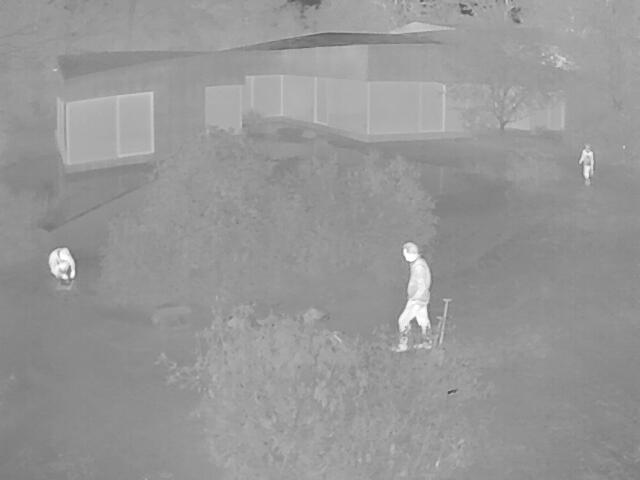person: (396, 242, 429, 352), (578, 144, 593, 185)
